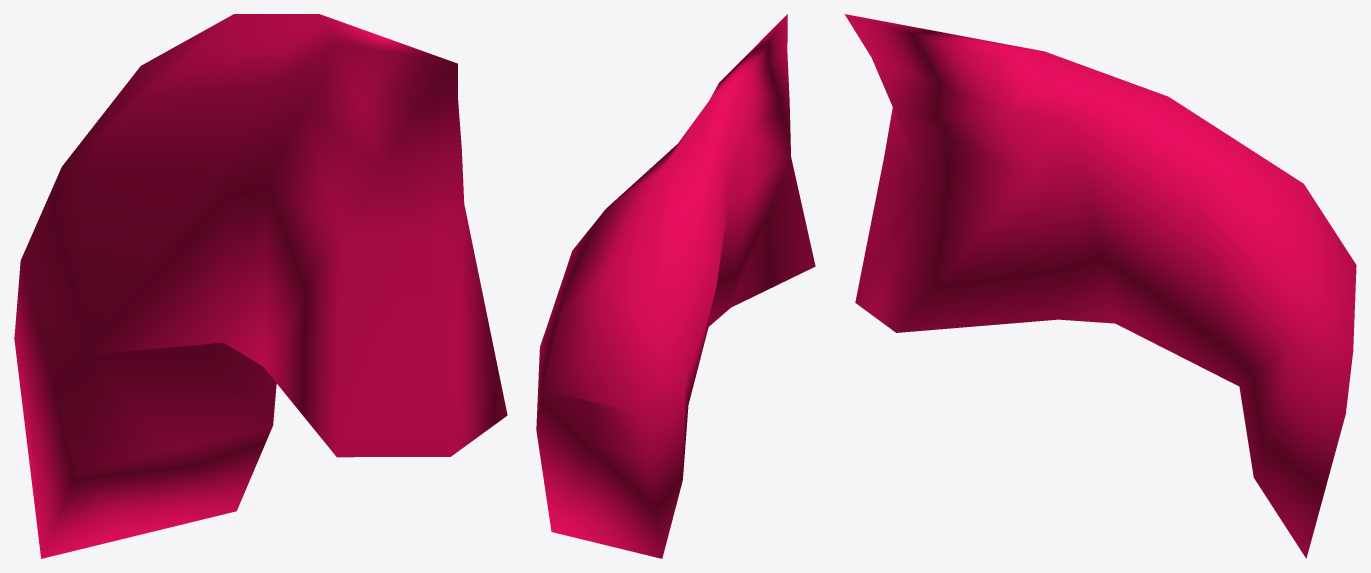
The model's file is mowhawk.glb.
3 renders of one model, left to right at view 1: azimuth 30°, elevation 25°; view 2: azimuth 150°, elevation 25°; view 3: azimuth 270°, elevation 25°, orthographic. The views are drawn at different scales.
Parts seen in each view (by area): view 1: Mowhawk; view 2: Mowhawk; view 3: Mowhawk.
Boxes of the visible parts, left/top/right/bottom form: Mowhawk: left=14, top=14, right=507, bottom=558; Mowhawk: left=536, top=14, right=815, bottom=558; Mowhawk: left=844, top=14, right=1356, bottom=558.
Bounding box in the file's own units: 0.3191 × 0.8434 × 0.7668.
